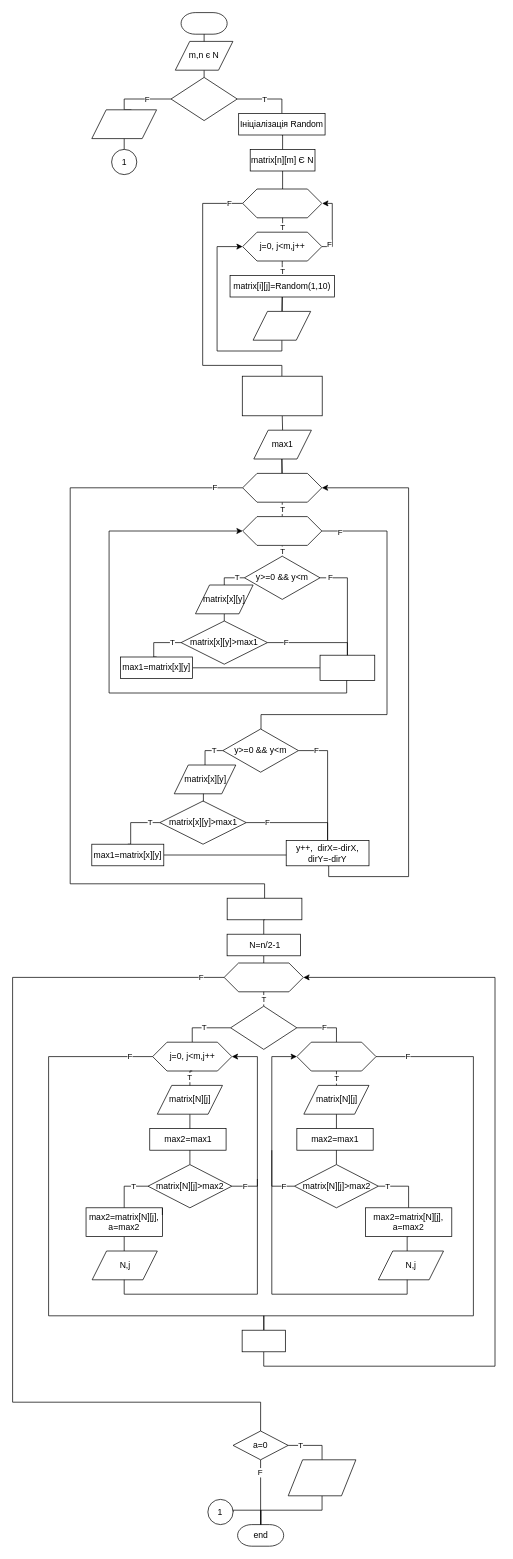
This 513x1559 diagram has some shape labels left out. Each missing label, with the centre of its shape:
"There is no result": point 321,1477
"Try again": point 124,124
dirX=-1,dirY=-1, x=n-1,y=1, max1=matrix[x][y-1]: point 282,395
i%2=1: point 263,1027
i=0, i<m+2,i++: point 282,487
i=0, i<n,i++: point 282,203
i=0, i<n/2,i++: point 263,977
j=1, j<n/2,j++: point 282,530
j=m-1, j>=0,j--: point 336,1056
matrix[i][j]: point 281,325
max2=max1, a=0: point 264,908
n%2=0: point 203,99
N--: point 263,1340
start: point 203,23
x=x+dirX, y=y+dirY: point 347,667
